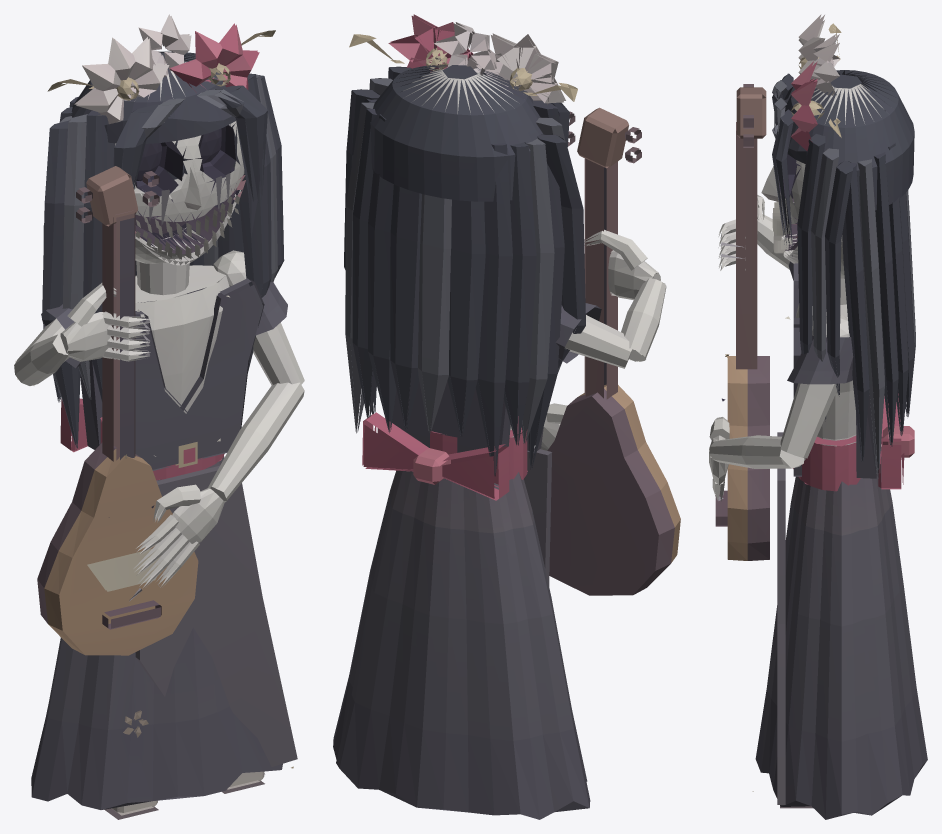
Rendered from Mimic.glb.
3 views of the same model, side by side, from view 1: azimuth 30°, elevation 25°; view 2: azimuth 150°, elevation 25°; view 3: azimuth 270°, elevation 25° (orthographic). The views are drawn at different scales.
Visible parts, largest first — view 1: Body, Head, ArmL, ArmR, LegR; view 2: Body, Head, ArmR, ArmL; view 3: Body, Head, ArmL, ArmR.
Boxes of the visible parts, x1=… form: Body: x1=31, y1=166, x2=297, y2=809; Head: x1=42, y1=14, x2=284, y2=449; ArmL: x1=129, y1=250, x2=304, y2=601; ArmR: x1=14, y1=283, x2=150, y2=386; LegR: x1=104, y1=800, x2=158, y2=819; Body: x1=333, y1=107, x2=680, y2=819; Head: x1=344, y1=14, x2=585, y2=476; ArmR: x1=555, y1=229, x2=666, y2=368; ArmL: x1=540, y1=403, x2=566, y2=450; Body: x1=715, y1=84, x2=927, y2=819; Head: x1=761, y1=14, x2=915, y2=477; ArmL: x1=709, y1=315, x2=853, y2=501; ArmR: x1=718, y1=195, x2=796, y2=280.
Size of the model in its own units: 3.08 by 7.68 by 2.07.
